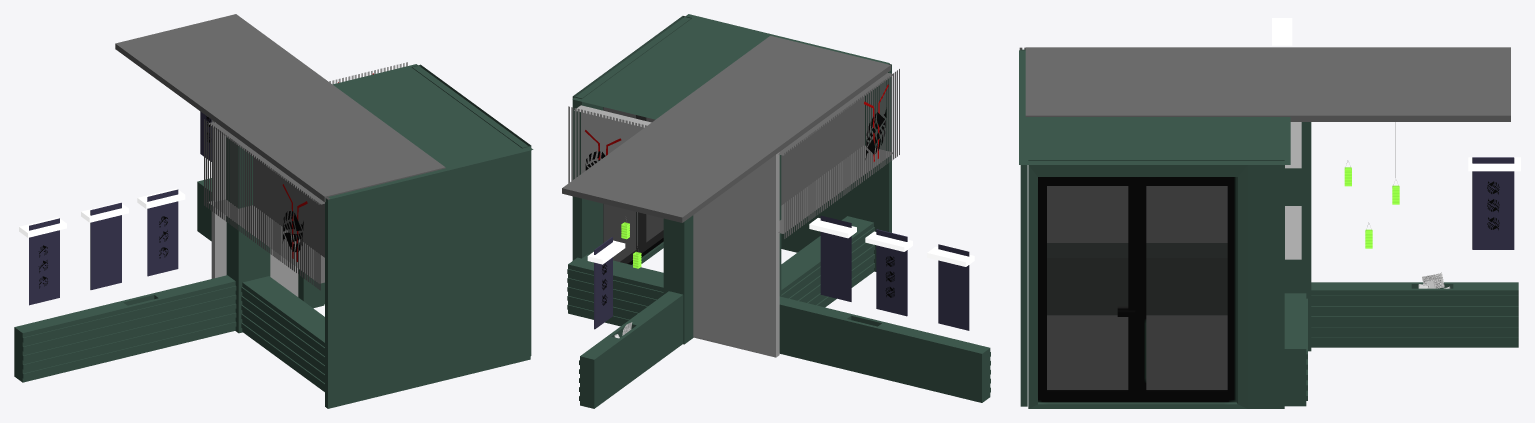
File: Sushi_Bar.glb
3 views of the same model, side by side, from view 1: azimuth 30°, elevation 25°; view 2: azimuth 150°, elevation 25°; view 3: azimuth 270°, elevation 25° (orthographic). The views are drawn at different scales.
Visible parts, largest first — view 1: sushi_barhose_012_geo; view 2: sushi_barhose_012_geo; view 3: sushi_barhose_012_geo.
Part boxes in pixels (x1=…): sushi_barhose_012_geo: x1=14, y1=14, x2=533, y2=408; sushi_barhose_012_geo: x1=562, y1=14, x2=990, y2=408; sushi_barhose_012_geo: x1=1019, y1=18, x2=1520, y2=408.
Size of what is drawn, in the model's own units: 10.31 by 5.09 by 9.46.
Materials: 2 (2 with a texture image).
